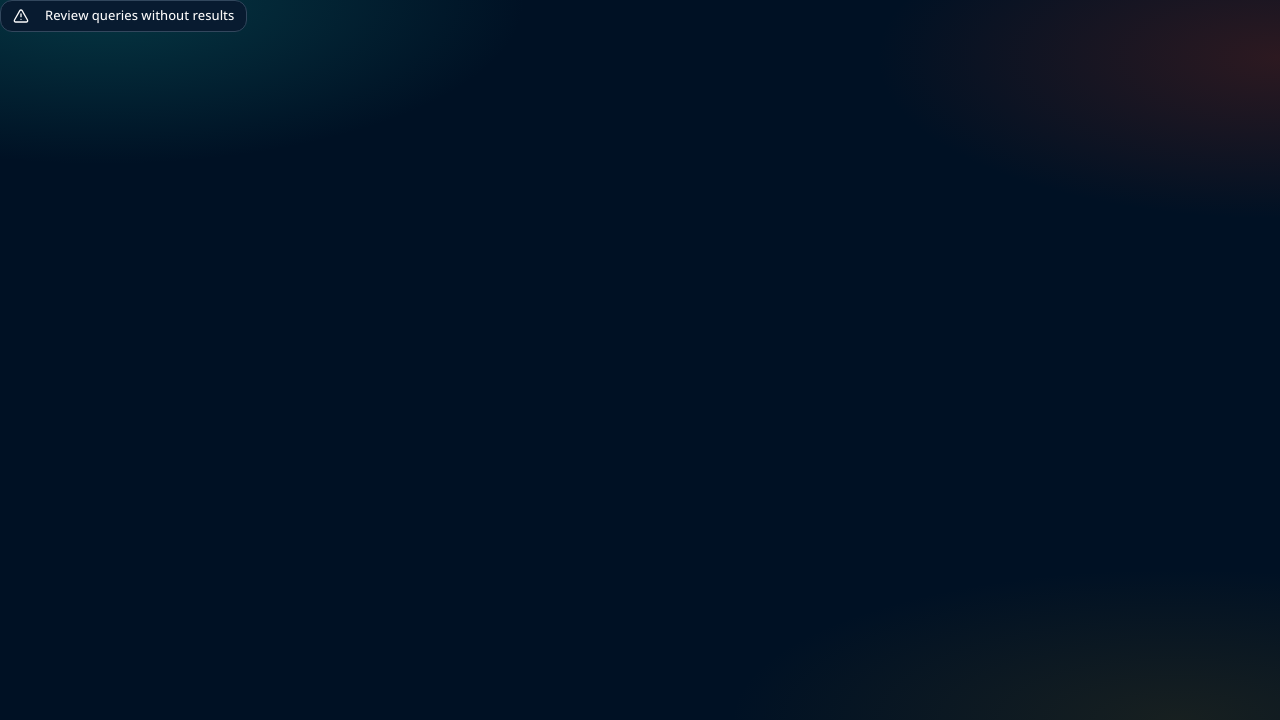
SERP exclusion review › does not change the forecast scope or resume when review fails or the operator cancels
Later steps or results of the test are not shown.
Click the button "Review queries without results". click: [124, 16]
box: top-left (0, 0), bottom-right (247, 32)
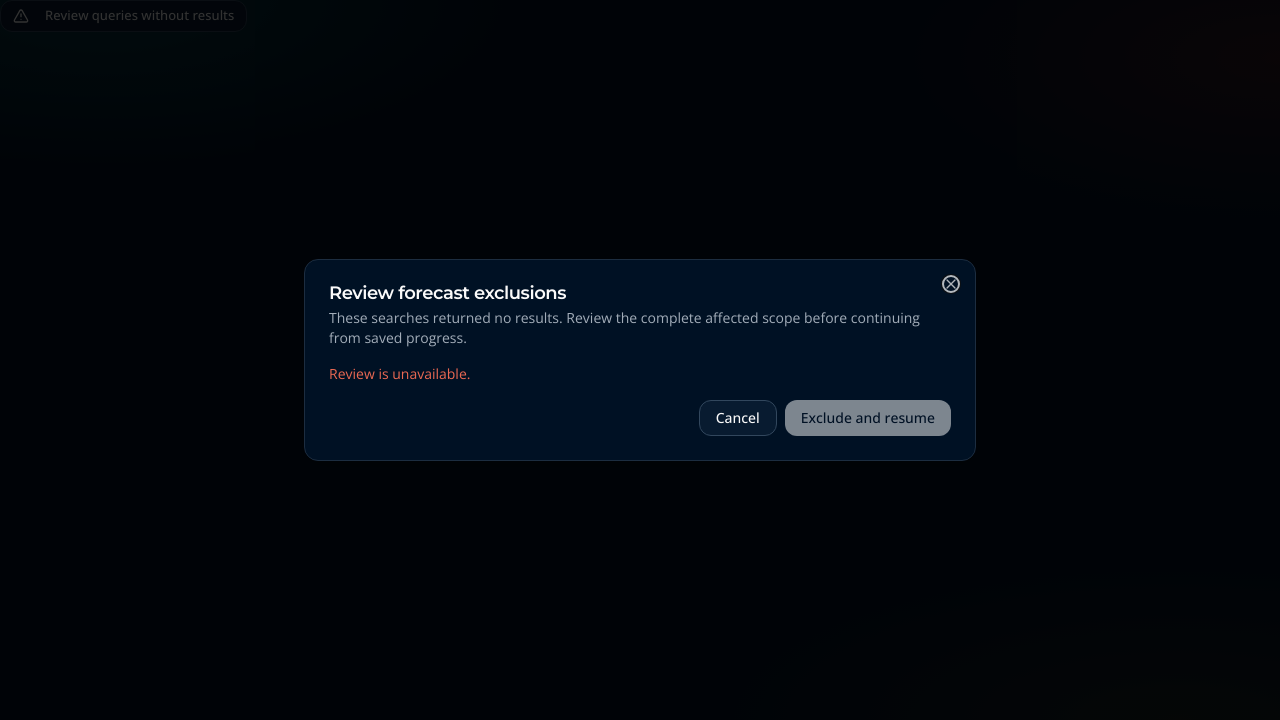
Expected: the message reads "Review is unavailable.", top-left (329, 364), bottom-right (470, 383)
